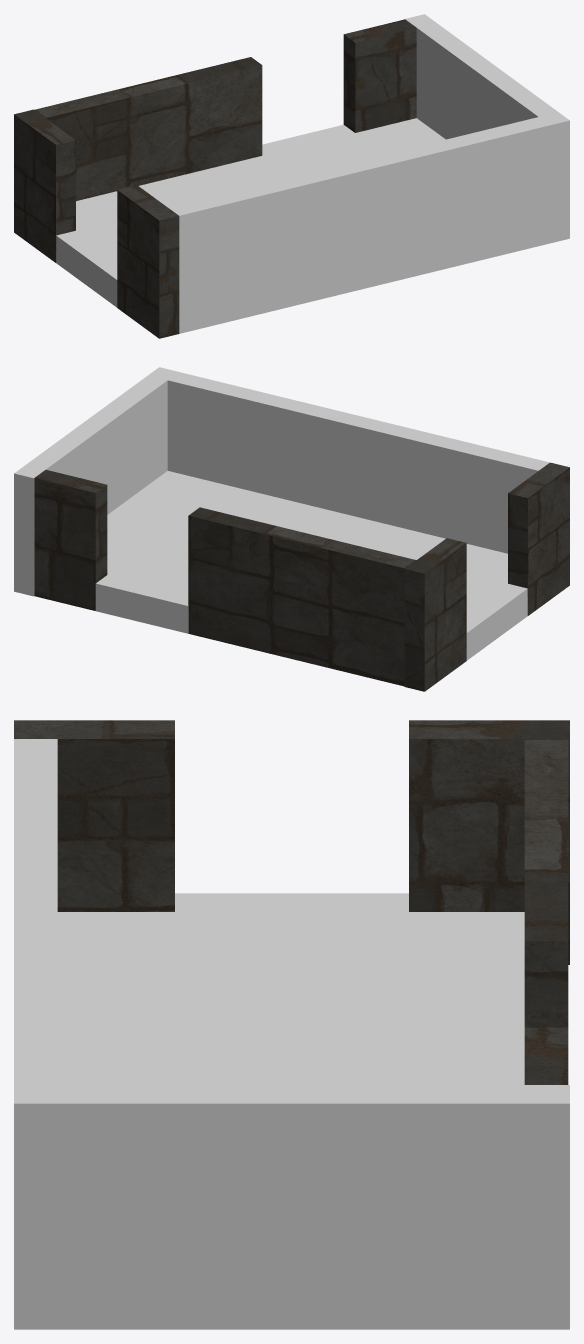
Rendered from LongRoomSideExit.fbx.
The picture shows the model from 3 angles, top to bottom: view 1: azimuth 30°, elevation 25°; view 2: azimuth 150°, elevation 25°; view 3: azimuth 270°, elevation 25°; orthographic projection. The views are drawn at different scales.
Parts seen in each view (by area): view 1: Wall.017, Wall.016, Wall.019, LongRoomSideExit, Wall.018; view 2: Wall.016, Wall.017, LongRoomSideExit, Wall.019, Wall.018; view 3: Wall.018, LongRoomSideExit, Wall.019, Wall.016, Wall.017.
Boxes of the visible parts, x1,y1,x2,y2 form: Wall.017: (168, 117, 549, 333); Wall.016: (34, 19, 416, 200); Wall.019: (14, 109, 179, 338); LongRoomSideExit: (56, 118, 445, 307); Wall.018: (405, 14, 569, 243); Wall.016: (34, 470, 416, 686); Wall.017: (167, 372, 549, 553); LongRoomSideExit: (95, 471, 527, 660); Wall.019: (404, 462, 569, 691); Wall.018: (14, 367, 178, 596); Wall.018: (14, 1085, 569, 1329); LongRoomSideExit: (57, 893, 524, 1084); Wall.019: (14, 720, 569, 964); Wall.016: (524, 739, 568, 1084); Wall.017: (14, 739, 57, 1084).
Bounding box in the file's own units: 15.5 × 9.5 × 4.26.
